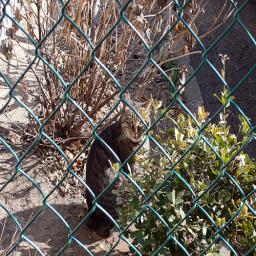catnose: (132, 128, 139, 136)
